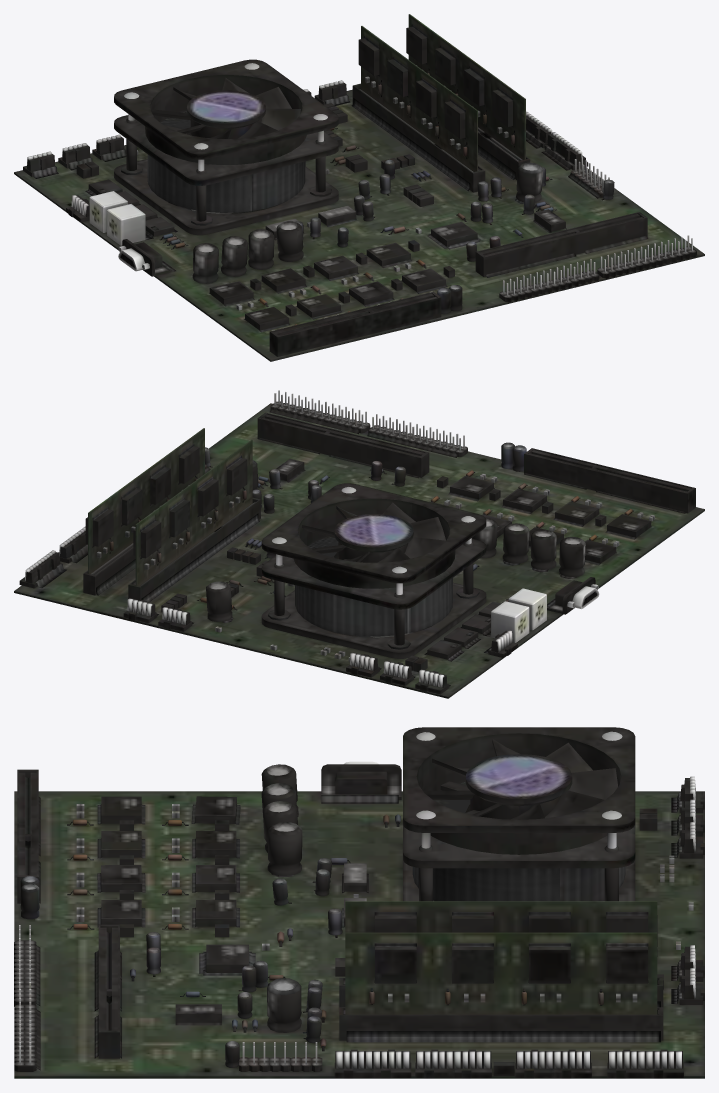
The model's file is circuit_board.glb.
3 views of the same model, one above another, from view 1: azimuth 30°, elevation 25°; view 2: azimuth 150°, elevation 25°; view 3: azimuth 270°, elevation 25° (orthographic). The views are drawn at different scales.
Visible parts, largest first — view 1: circuit_board; view 2: circuit_board; view 3: circuit_board.
Part boxes in pixels (<box>): circuit_board: <box>14,14,704,361</box>; circuit_board: <box>14,390,704,698</box>; circuit_board: <box>14,727,704,1078</box>.
Size of the model in its own units: 0.4035 by 0.0783 by 0.3974.
2 materials, 2 textured.
